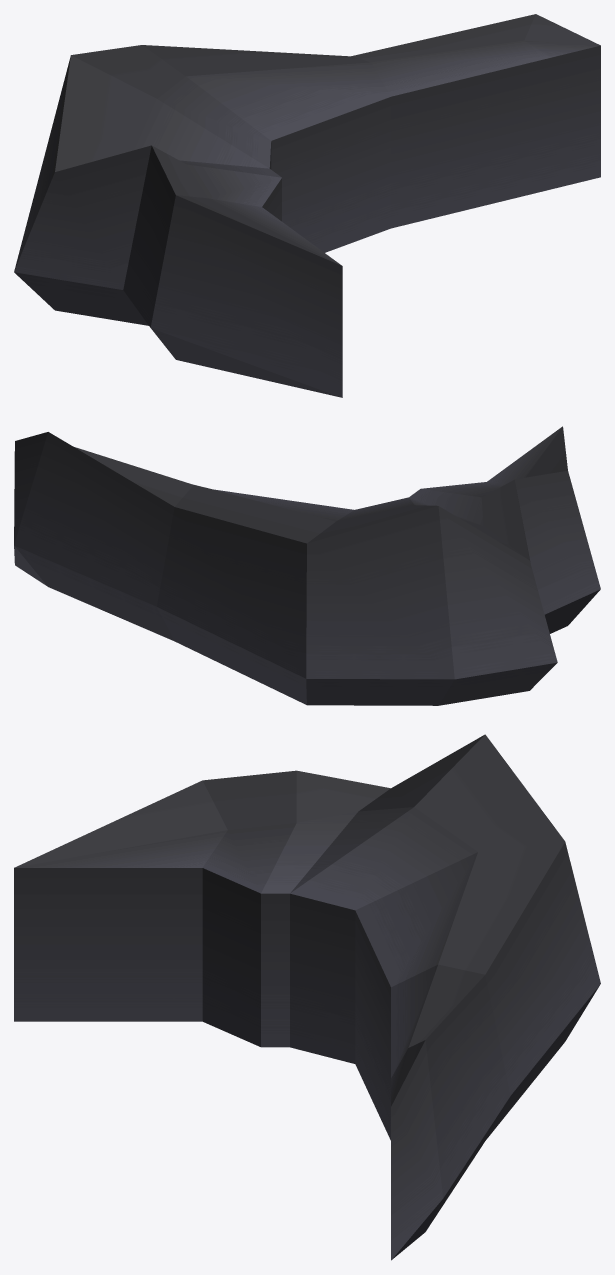
Rendered from Fire-Border-Corner.fbx.
The picture shows the model from 3 angles, top to bottom: view 1: azimuth 30°, elevation 25°; view 2: azimuth 150°, elevation 25°; view 3: azimuth 270°, elevation 25°; orthographic projection. The views are drawn at different scales.
Parts seen in each view (by area): view 1: Arena Decoration_Corner.002; view 2: Arena Decoration_Corner.002; view 3: Arena Decoration_Corner.002.
Part boxes in pixels (x1,y1,x2,y2): Arena Decoration_Corner.002: [14, 14, 600, 397]; Arena Decoration_Corner.002: [14, 426, 600, 705]; Arena Decoration_Corner.002: [14, 734, 600, 1260].
Bounding box in the file's own units: 4.16 × 1.45 × 3.11.
